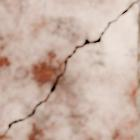broken_brick: (0, 0, 132, 139), (6, 4, 138, 139)
crack: (2, 0, 138, 139)
